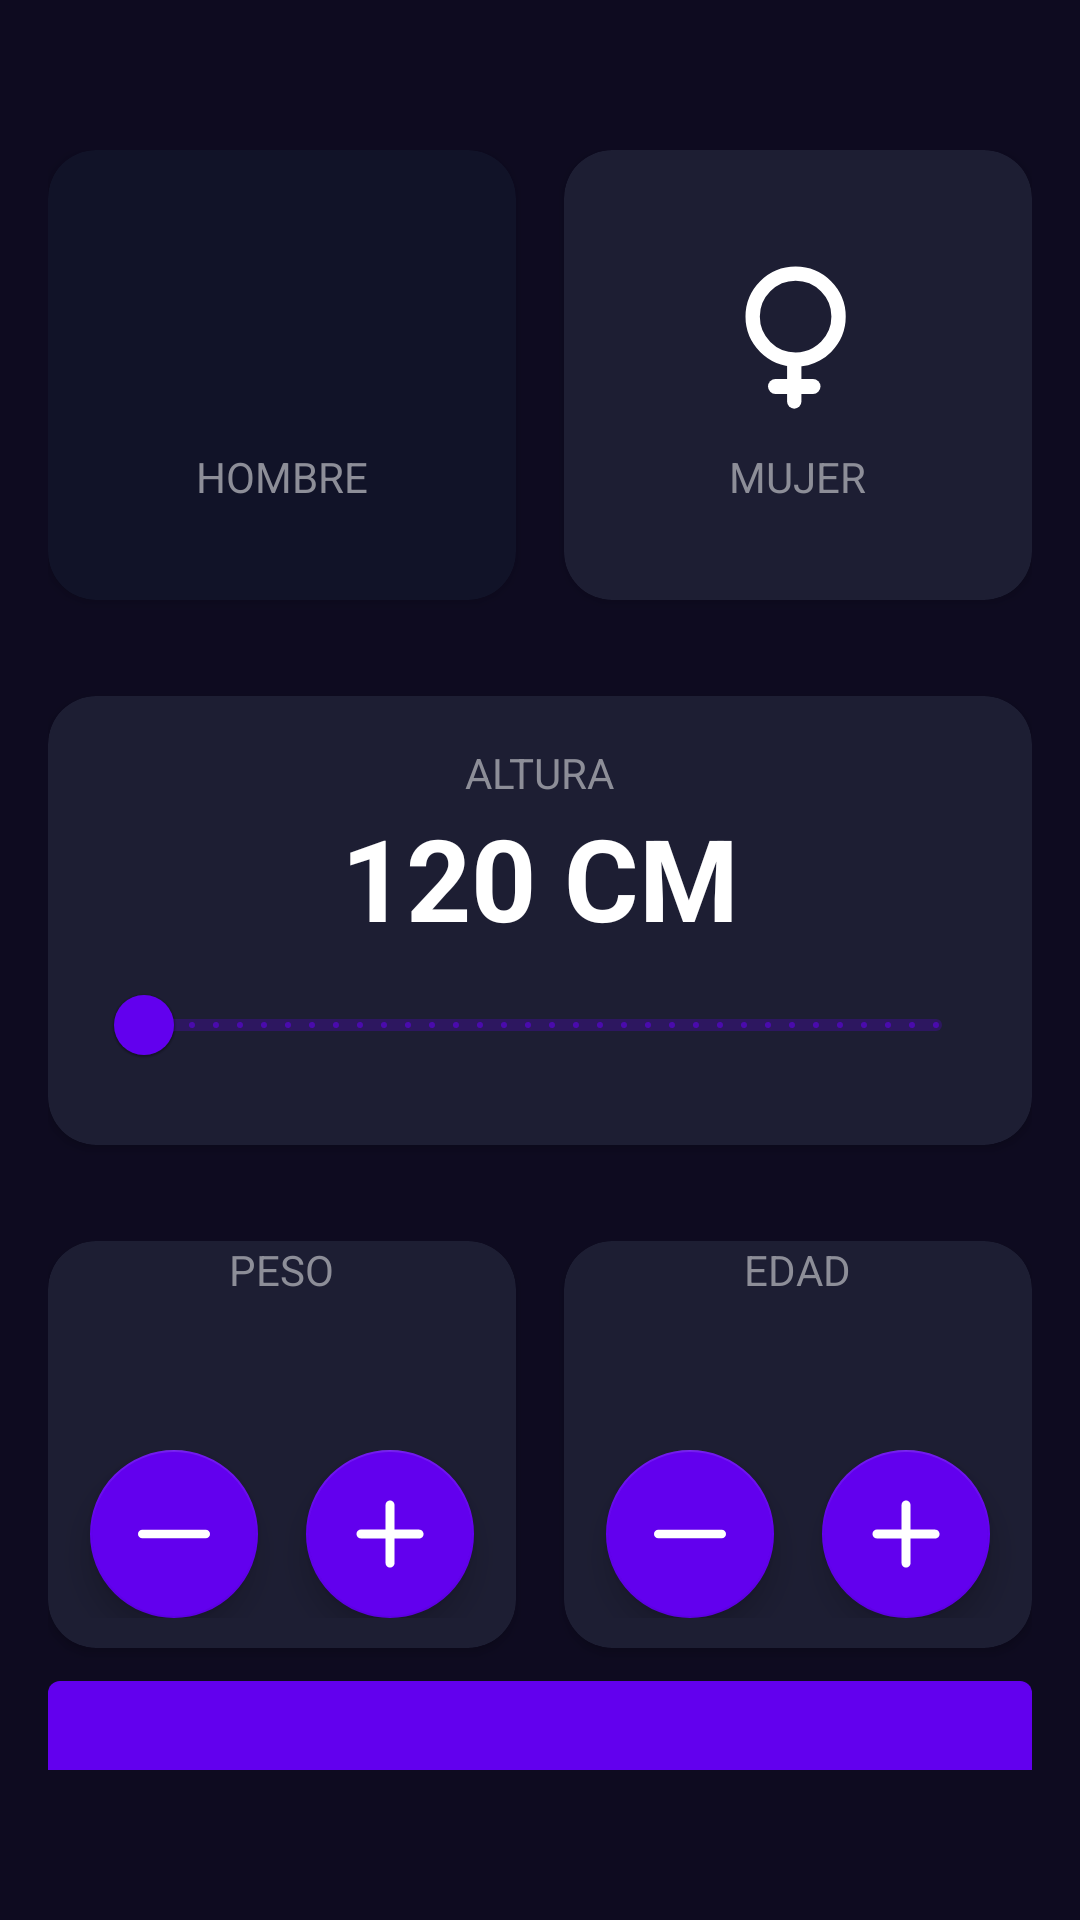

Where to tap for icons on this 1080px x 1920px app screen, as (x,y):
female: (795,337)
plus: (390,1534), (906,1534)
subtract: (174,1534), (690,1534)
